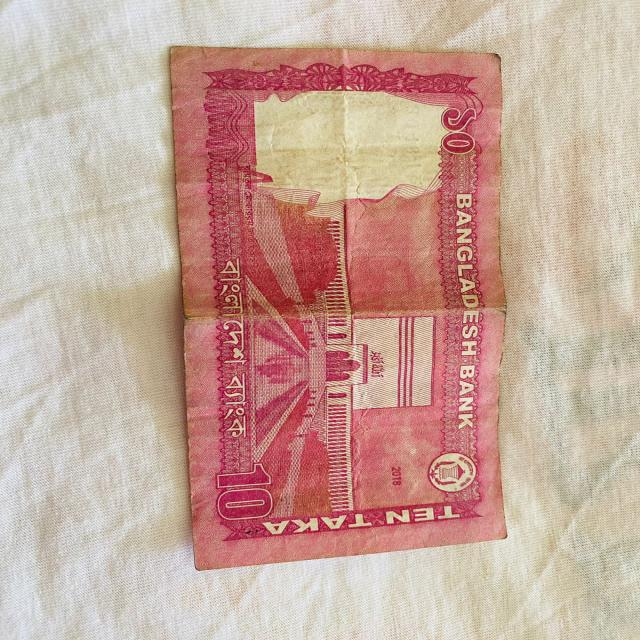Taka: (166, 40, 510, 580)
